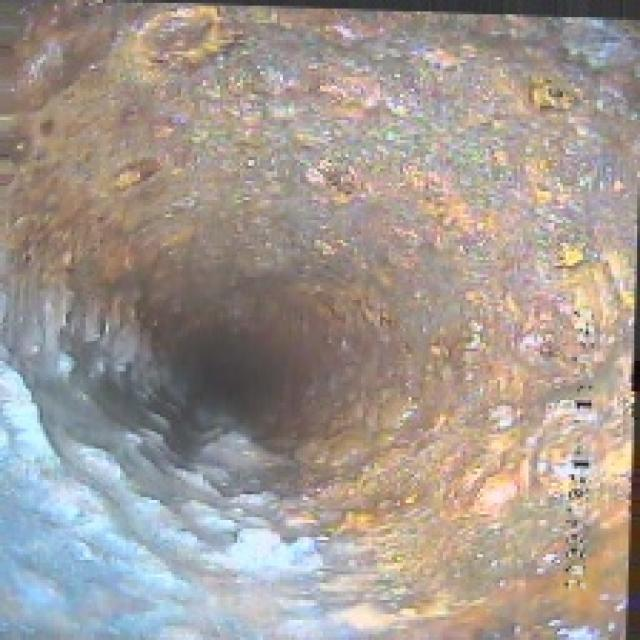encrustation: (14, 86, 526, 620)
